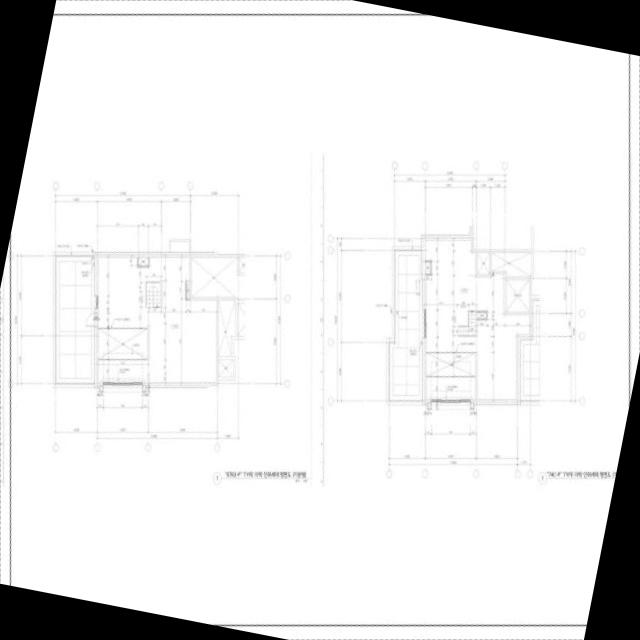background: (0, 0, 640, 640)
space_balconi: (393, 256, 419, 396)
space_other: (98, 258, 216, 382), (425, 240, 487, 352), (477, 274, 529, 400), (56, 257, 95, 383), (426, 353, 475, 377), (426, 377, 475, 400), (492, 253, 532, 277), (506, 280, 529, 312), (477, 253, 490, 274), (138, 258, 148, 266), (425, 262, 431, 274), (477, 313, 486, 318), (187, 283, 189, 299)
space_staircase: (458, 311, 475, 336), (146, 282, 160, 307)
